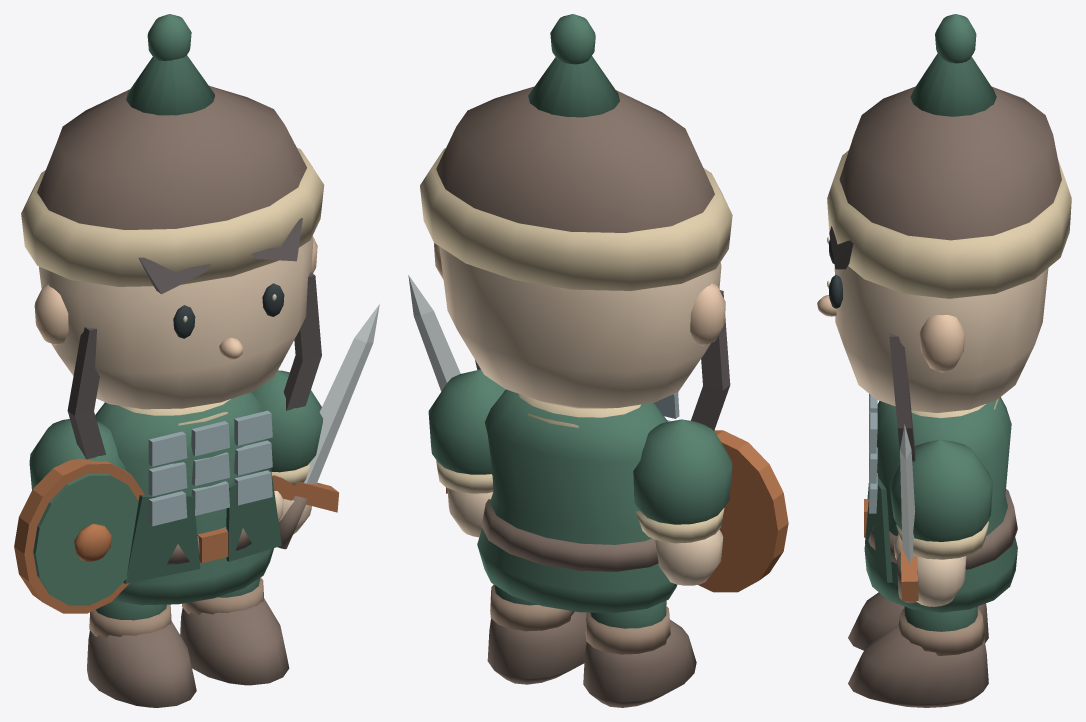
Rendered from warrior.glb.
The picture shows the model from 3 angles, left to right: view 1: azimuth 30°, elevation 25°; view 2: azimuth 150°, elevation 25°; view 3: azimuth 270°, elevation 25°; orthographic projection. The views are drawn at different scales.
Parts seen in each view (by area): view 1: Regional helmet, Soft cheek head, Fur hat brim, Short folded tunic, Regional shield face, Round leather boot, Round leather boot.001, Shield gold rim, Coat fold, Puff sleeve.001, Mongol pointed cap, Shaped bevel sword (+25 smaller); view 2: Regional helmet, Soft cheek head, Short folded tunic, Fur hat brim, Puff sleeve, Shield gold rim, Round leather boot, Puff sleeve.001, Round leather boot.001, Broad leather belt, Mongol pointed cap, Little mitten (+11 smaller); view 3: Regional helmet, Soft cheek head, Fur hat brim, Short folded tunic, Round leather boot.001, Puff sleeve.001, Mongol pointed cap, Ear.001, Little mitten.001, Boot turn cuff.001, Round leather boot, Broad leather belt (+9 smaller).
Boxes of the visible parts, x1,y1,x2,y2 form: Regional helmet: (37, 85, 306, 229); Soft cheek head: (39, 237, 313, 409); Fur hat brim: (21, 147, 324, 286); Short folded tunic: (95, 392, 273, 605); Regional shield face: (33, 474, 138, 605); Round leather boot: (87, 620, 196, 707); Round leather boot.001: (180, 598, 289, 685); Shield gold rim: (14, 458, 144, 613); Coat fold: (123, 494, 200, 583); Puff sleeve.001: (252, 370, 322, 472); Mongol pointed cap: (126, 55, 214, 115); Shaped bevel sword: (304, 304, 379, 484); Regional helmet: (436, 86, 714, 232); Soft cheek head: (439, 246, 721, 408); Short folded tunic: (477, 389, 677, 612); Fur hat brim: (420, 148, 732, 290); Puff sleeve: (633, 419, 732, 524); Shield gold rim: (698, 430, 788, 592); Round leather boot: (583, 619, 696, 707); Puff sleeve.001: (428, 369, 505, 474); Round leather boot.001: (487, 611, 586, 684); Broad leather belt: (481, 499, 658, 571); Mongol pointed cap: (528, 56, 619, 117); Little mitten: (655, 529, 723, 585); Regional helmet: (839, 86, 1061, 240); Soft cheek head: (834, 266, 1048, 412); Fur hat brim: (827, 150, 1071, 298); Short folded tunic: (864, 397, 1017, 612); Round leather boot.001: (848, 624, 988, 707); Puff sleeve.001: (889, 439, 992, 541); Mongol pointed cap: (910, 53, 996, 116); Ear.001: (919, 315, 965, 372); Little mitten.001: (916, 556, 966, 606); Boot turn cuff.001: (898, 608, 984, 655); Round leather boot: (848, 592, 988, 650); Broad leather belt: (868, 489, 1017, 569).
Size of the model in its own units: 1.02 by 1.75 by 0.614.
